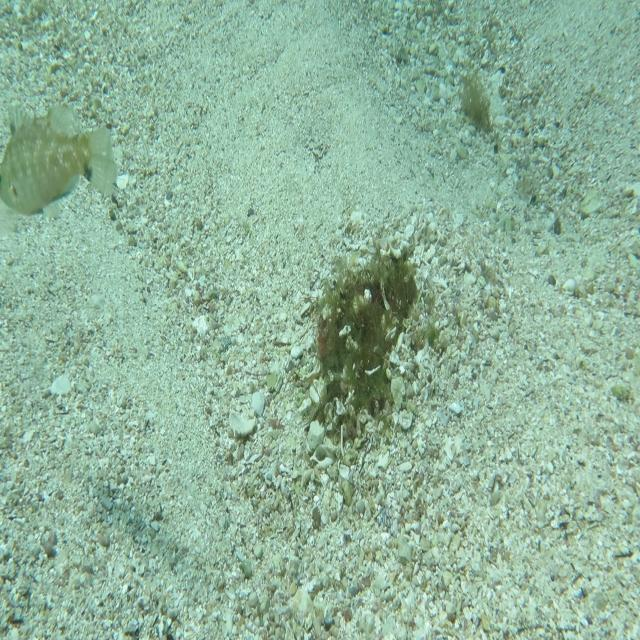CHASE_FLEE: (0, 93, 121, 222)
core_nest: (354, 268, 394, 303)
nest: (286, 220, 431, 458)
